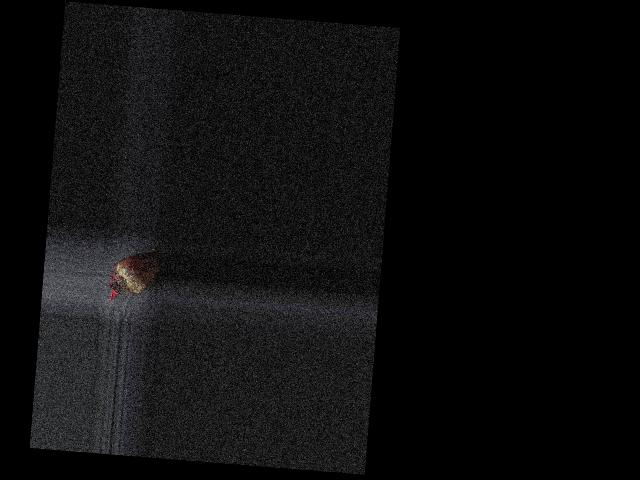beet: (105, 241, 160, 304)
